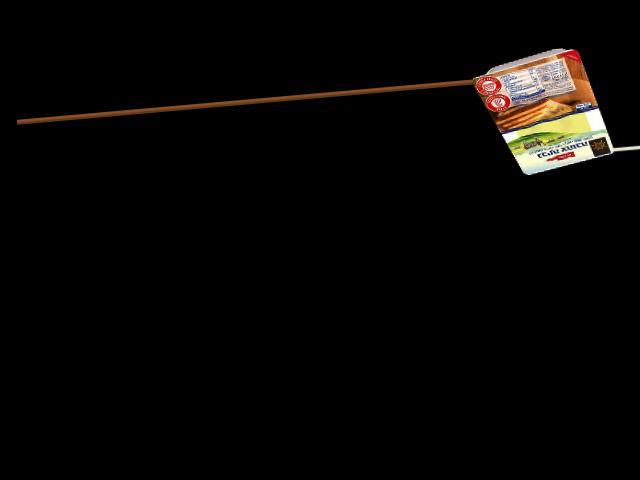cheese: (490, 48, 603, 176)
